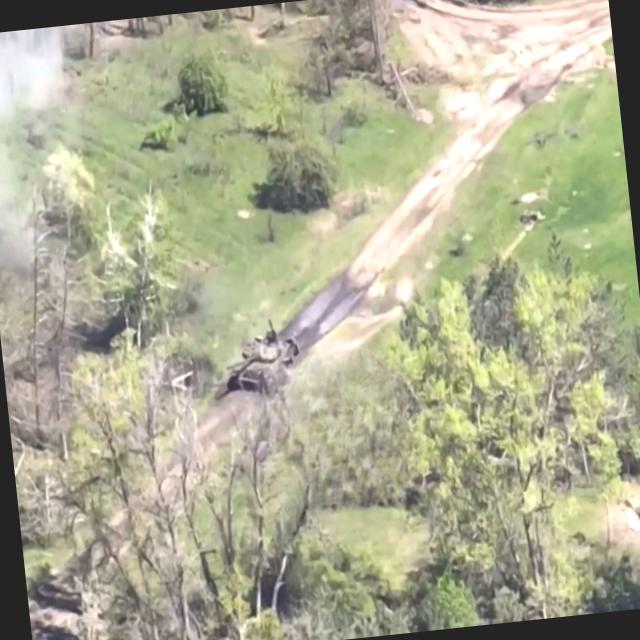MBT: (223, 317, 310, 400)
